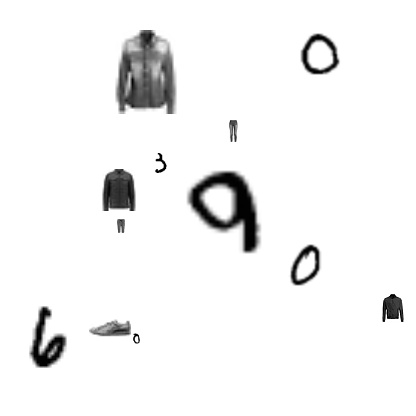0: (277, 237, 333, 293), (291, 26, 347, 82), (129, 331, 143, 345)
3: (147, 150, 175, 178)
6: (3, 301, 87, 385)
9: (172, 148, 284, 260)
Coat: (98, 169, 140, 211), (379, 294, 407, 322)
Shirt: (104, 30, 188, 114)
Sneaker: (89, 306, 131, 348)
Trouser: (222, 120, 244, 142), (114, 219, 128, 233)
